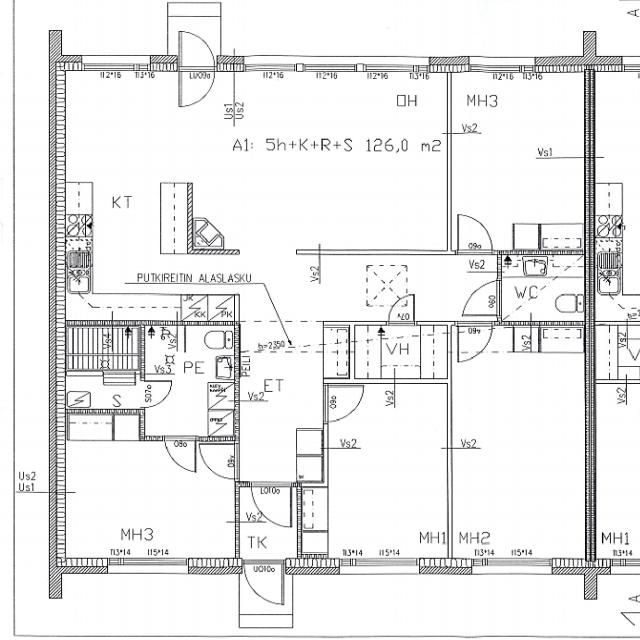door: (242, 557, 284, 615), (179, 55, 215, 109), (179, 19, 215, 72), (250, 481, 290, 526), (322, 386, 364, 423), (462, 279, 502, 315), (457, 321, 492, 362), (457, 214, 492, 254), (198, 444, 239, 478), (163, 435, 196, 473), (387, 292, 415, 327), (139, 380, 173, 407)
